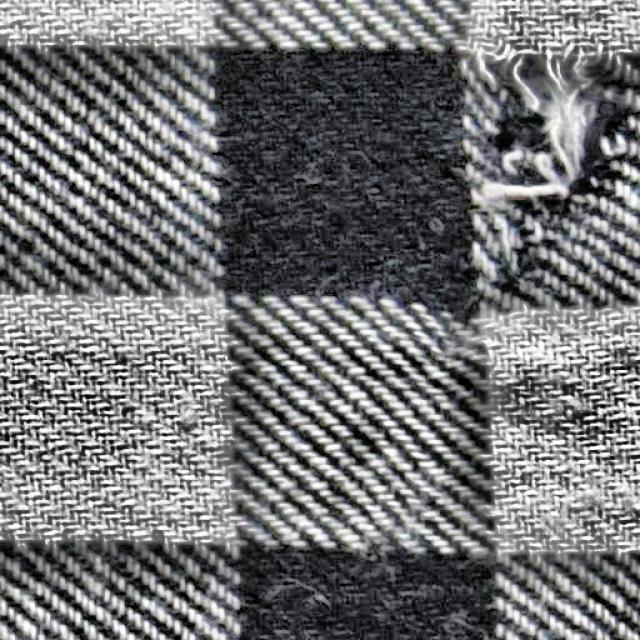cut: (436, 38, 639, 309)
